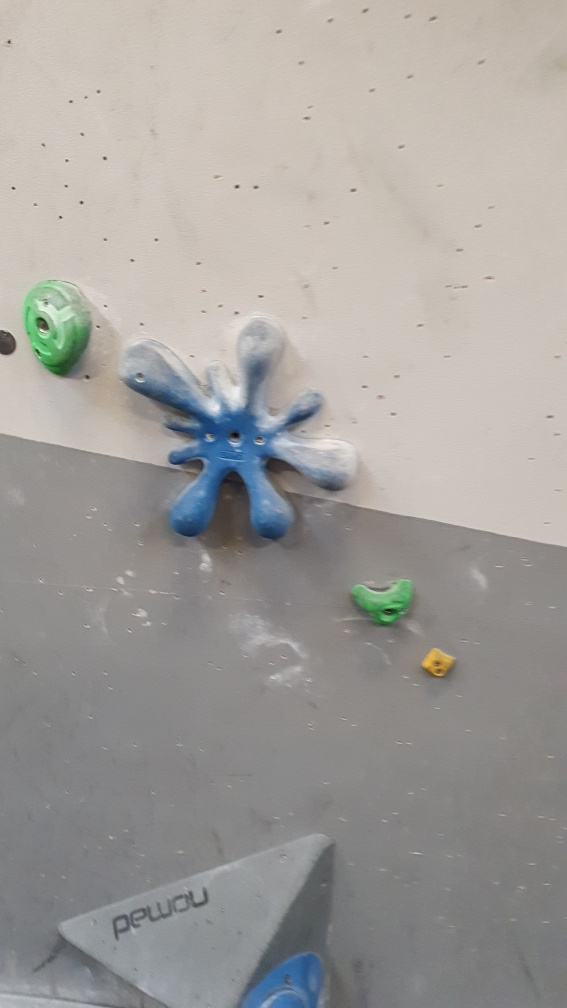Hand Start: (1, 329, 20, 361)
Jug: (24, 276, 105, 380), (351, 575, 418, 625)
Octopus Pinch: (119, 313, 361, 548)
